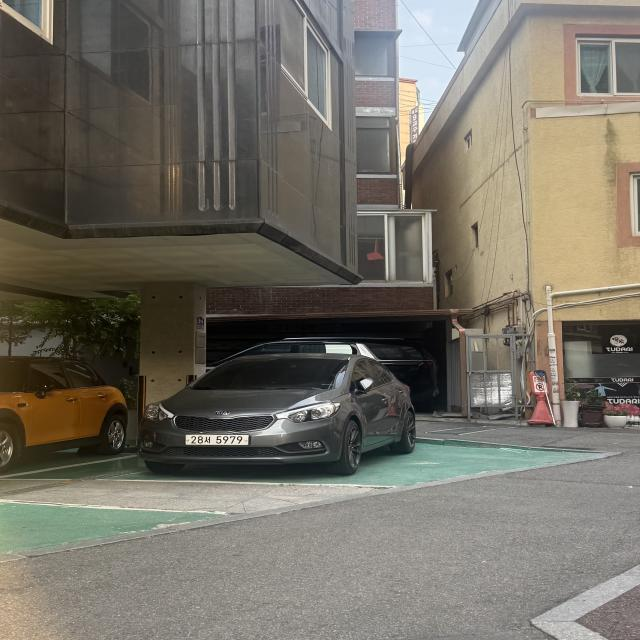car: (100, 332, 450, 490)
